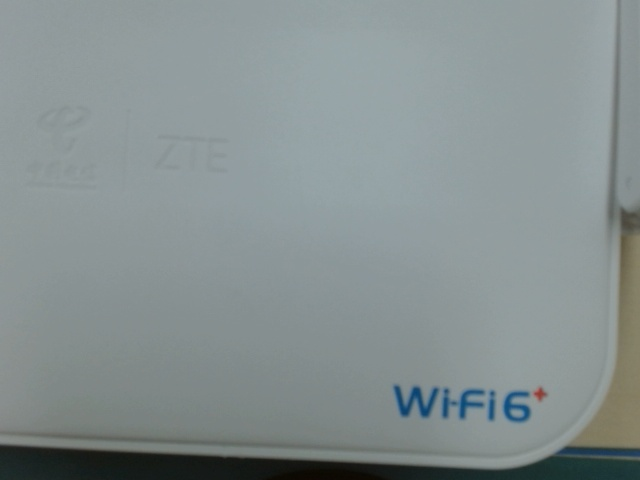AJ_ZTEWIFI6Plus: (382, 373, 559, 429)
